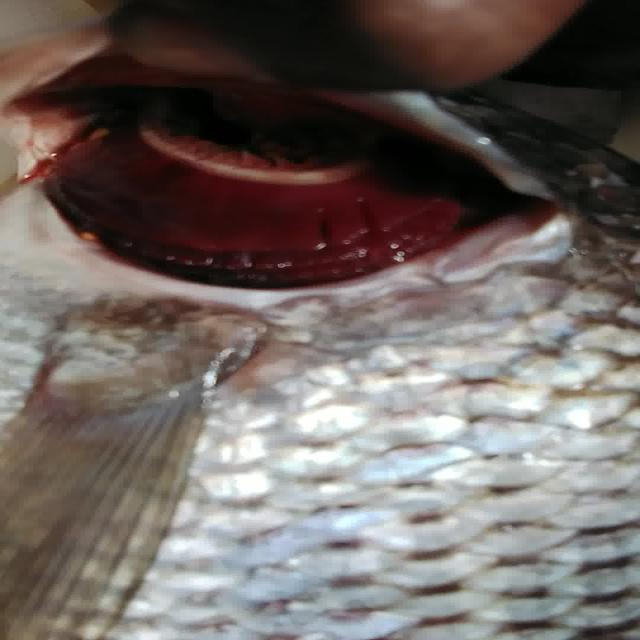Fresh: (0, 82, 558, 314)
